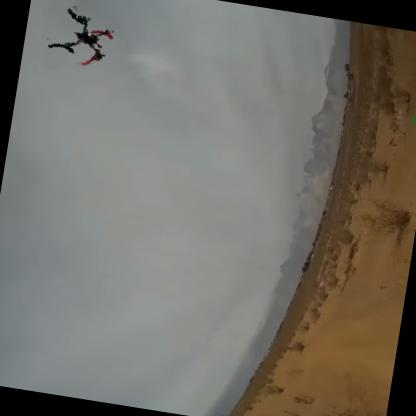drone: (35, 0, 133, 76)
